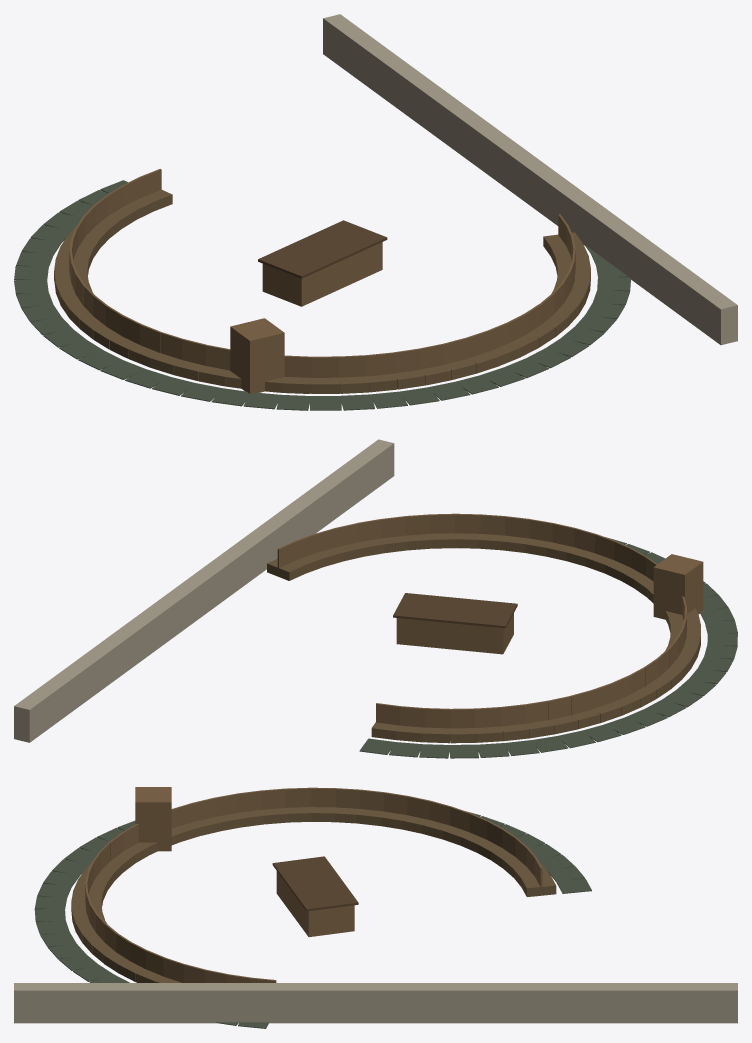
Rendered from tower-of-london-site-b10.glb.
The picture shows the model from 3 angles, top to bottom: view 1: azimuth 30°, elevation 25°; view 2: azimuth 150°, elevation 25°; view 3: azimuth 270°, elevation 25°; orthographic projection. The views are drawn at different scales.
Bounding box in the file's own units: 92.38 × 9 × 120.
